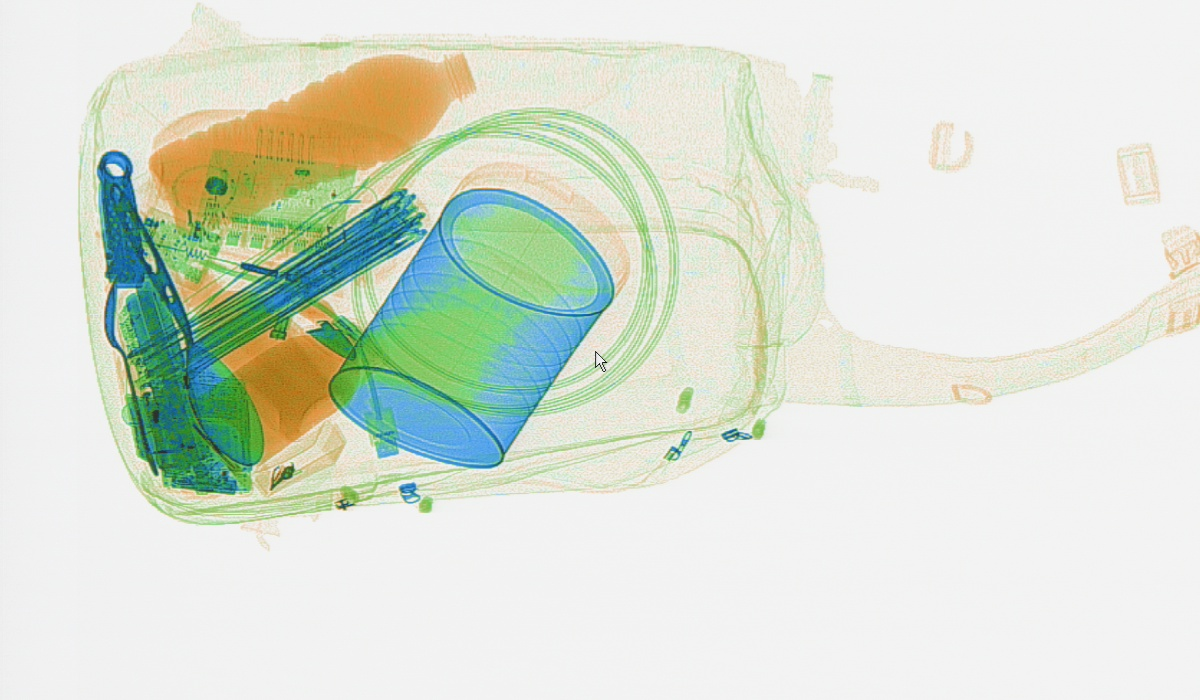knife: (93, 146, 146, 292)
powerbank: (110, 279, 213, 474)
